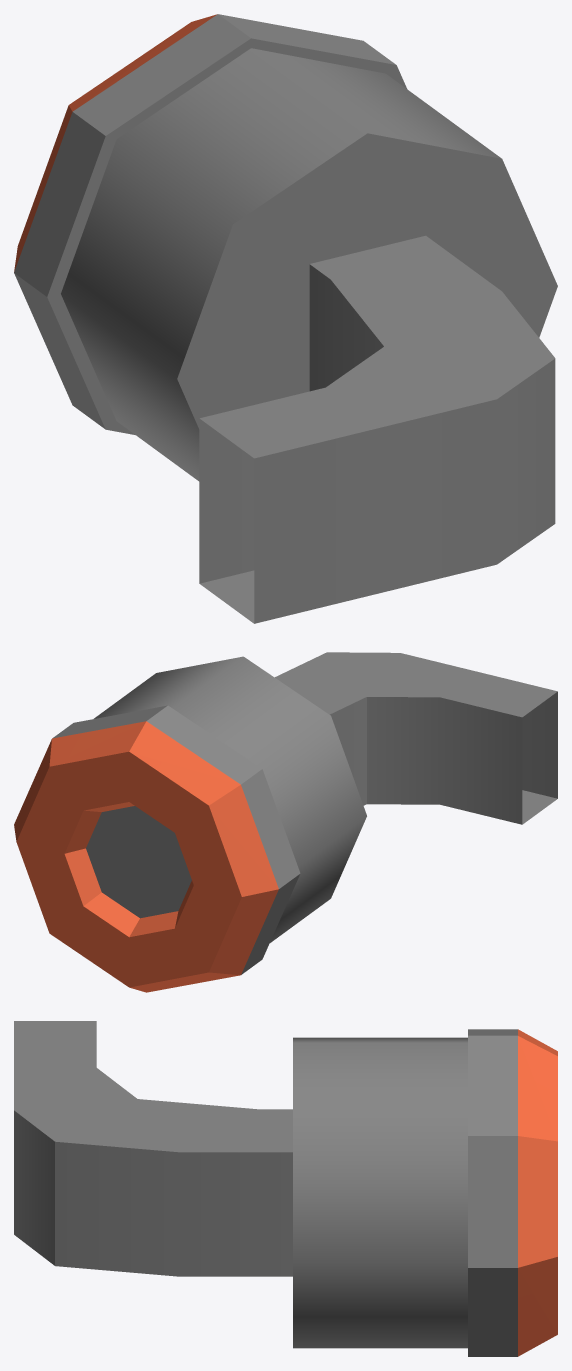
Rendered from rod_consol_4.FBX.
The picture shows the model from 3 angles, top to bottom: view 1: azimuth 30°, elevation 25°; view 2: azimuth 150°, elevation 25°; view 3: azimuth 270°, elevation 25°; orthographic projection. The views are drawn at different scales.
Parts seen in each view (by area): view 1: rod_consol_4; view 2: rod_consol_4; view 3: rod_consol_4.
Boxes of the visible parts, left/top/right/bottom form: rod_consol_4: left=14, top=14, right=557, bottom=623; rod_consol_4: left=14, top=652, right=557, bottom=992; rod_consol_4: left=14, top=1021, right=557, bottom=1356.
Size of the model in its own units: 4.66 by 3.7 by 5.8.
